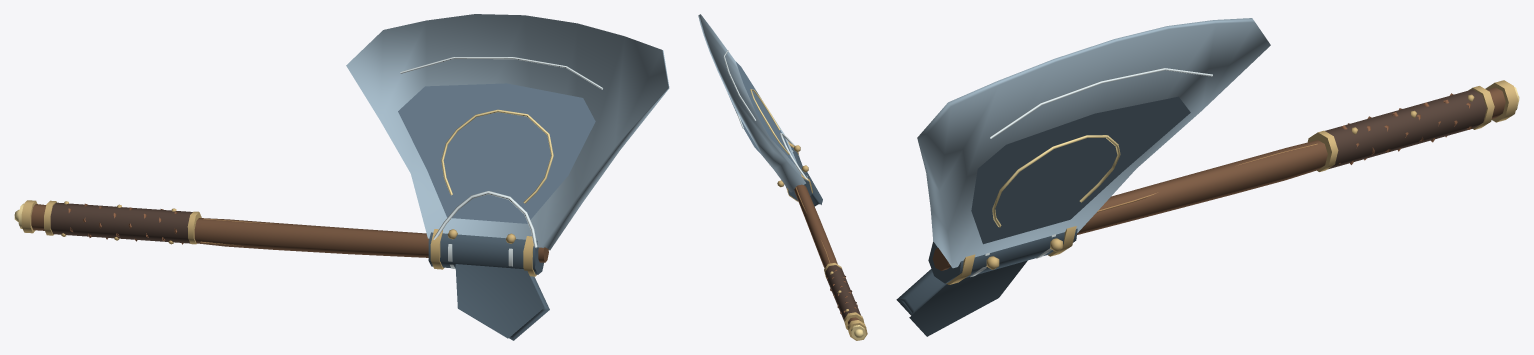
The model's file is axe_crescent_low.glb.
3 views of the same model, side by side, from view 1: azimuth 30°, elevation 25°; view 2: azimuth 150°, elevation 25°; view 3: azimuth 270°, elevation 25° (orthographic). The views are drawn at different scales.
Parts seen in each view (by area): view 1: Crescent blade | one-piece forged steel | LOW, Blade | concave inner forge panel | LOW, Handle | sculpted dark ash | LOW, Poll | compact hammered counterweight | LOW, Grip | rich dark leather | LOW, Head | blackened forged socket | LOW, Etched gold | forged crescent filigree | LOW, Forged spine | central silver channel | LOW, Hollow grind | steel light-catching line | LOW; view 2: Crescent blade | one-piece forged steel | LOW, Handle | sculpted dark ash | LOW, Grip | rich dark leather | LOW, Blade | concave inner forge panel | LOW, Etched gold | forged crescent filigree | LOW, Head | blackened forged socket | LOW, Poll | compact hammered counterweight | LOW, Forged spine | central silver channel | LOW, Pommel | cast brass lower rim | LOW, Hollow grind | steel light-catching line | LOW, Grip | lower brass collar | LOW; view 3: Crescent blade | one-piece forged steel | LOW, Blade | concave inner forge panel.001 | LOW, Handle | sculpted dark ash | LOW, Grip | rich dark leather | LOW, Poll | compact hammered counterweight | LOW, Head | blackened forged socket | LOW, Etched gold | forged crescent filigree.001 | LOW, Hollow grind | steel light-catching line.001 | LOW, Pommel | cast brass lower rim | LOW, Grip | upper brass collar | LOW.
Boxes of the visible parts, x1,y1,x2,y2 form: Crescent blade | one-piece forged steel | LOW: [346, 14, 669, 250]; Blade | concave inner forge panel | LOW: [398, 83, 595, 223]; Handle | sculpted dark ash | LOW: [31, 204, 548, 262]; Poll | compact hammered counterweight | LOW: [455, 264, 549, 340]; Grip | rich dark leather | LOW: [50, 202, 192, 243]; Head | blackened forged socket | LOW: [428, 232, 543, 274]; Etched gold | forged crescent filigree | LOW: [441, 109, 553, 203]; Forged spine | central silver channel | LOW: [433, 191, 537, 247]; Hollow grind | steel light-catching line | LOW: [400, 57, 602, 89]; Crescent blade | one-piece forged steel | LOW: [698, 14, 805, 192]; Handle | sculpted dark ash | LOW: [794, 184, 860, 324]; Grip | rich dark leather | LOW: [825, 265, 860, 320]; Blade | concave inner forge panel | LOW: [736, 62, 796, 166]; Etched gold | forged crescent filigree | LOW: [750, 89, 789, 154]; Head | blackened forged socket | LOW: [785, 145, 811, 200]; Poll | compact hammered counterweight | LOW: [805, 172, 822, 206]; Forged spine | central silver channel | LOW: [779, 133, 807, 179]; Pommel | cast brass lower rim | LOW: [847, 320, 867, 340]; Hollow grind | steel light-catching line | LOW: [723, 50, 756, 120]; Grip | lower brass collar | LOW: [844, 312, 864, 329]; Crescent blade | one-piece forged steel | LOW: [917, 18, 1270, 268]; Blade | concave inner forge panel.001 | LOW: [971, 96, 1190, 244]; Handle | sculpted dark ash | LOW: [932, 87, 1505, 270]; Grip | rich dark leather | LOW: [1325, 89, 1486, 169]; Poll | compact hammered counterweight | LOW: [896, 260, 1027, 336]; Head | blackened forged socket | LOW: [928, 228, 1077, 283]; Etched gold | forged crescent filigree.001 | LOW: [992, 135, 1120, 227]; Hollow grind | steel light-catching line.001 | LOW: [990, 68, 1212, 138]; Pommel | cast brass lower rim | LOW: [1485, 80, 1518, 122]; Grip | upper brass collar | LOW: [1307, 130, 1338, 171].
Bounding box in the file's own units: 0.7637 × 0.4211 × 0.676.
